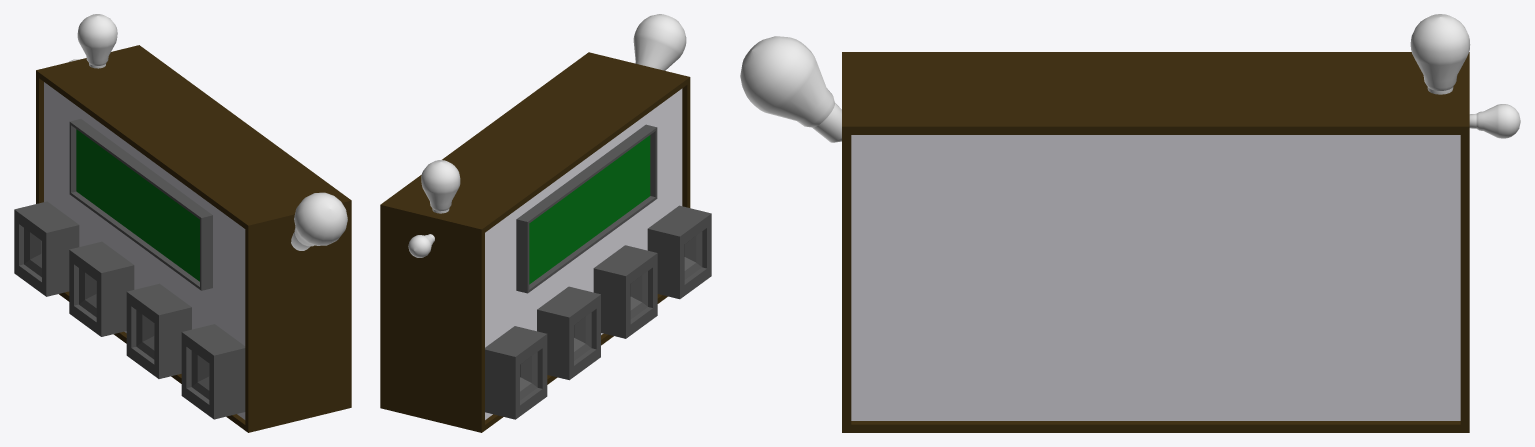
The model's file is GameBox.fbx.
3 views of the same model, side by side, from view 1: azimuth 30°, elevation 25°; view 2: azimuth 150°, elevation 25°; view 3: azimuth 270°, elevation 25° (orthographic). The views are drawn at different scales.
Visible parts, largest first — view 1: GameBox_Working, SSEGDisplay, GenSlots3, GenSlots1, GenSlots2, GenSlot0, Light.001, Light; view 2: GameBox_Working, SSEGDisplay, GenSlot0, GenSlots2, GenSlots3, GenSlots1, Light.001, Light, Light.002; view 3: GameBox_Working, Light.001, Light, Light.002.
Part boxes in pixels (x1,y1,x2,y2): GameBox_Working: (36, 45, 351, 432); SSEGDisplay: (69, 119, 212, 290); GenSlots3: (181, 324, 245, 419); GenSlots1: (69, 241, 134, 336); GenSlots2: (126, 283, 191, 378); GenSlot0: (14, 201, 79, 296); Light.001: (291, 192, 347, 250); Light: (77, 14, 117, 68); GameBox_Working: (380, 52, 690, 432); SSEGDisplay: (516, 124, 657, 293); GenSlot0: (485, 326, 547, 419); GenSlots2: (593, 245, 657, 338); GenSlots3: (647, 205, 711, 299); GenSlots1: (537, 286, 600, 380); Light.001: (633, 14, 686, 70); Light: (421, 160, 460, 213); Light.002: (408, 234, 434, 257); GameBox_Working: (842, 52, 1469, 432); Light.001: (740, 36, 841, 142); Light: (1410, 14, 1470, 94); Light.002: (1469, 104, 1520, 138).
Size of the model in its own units: 29.02 by 54.04 by 101.
